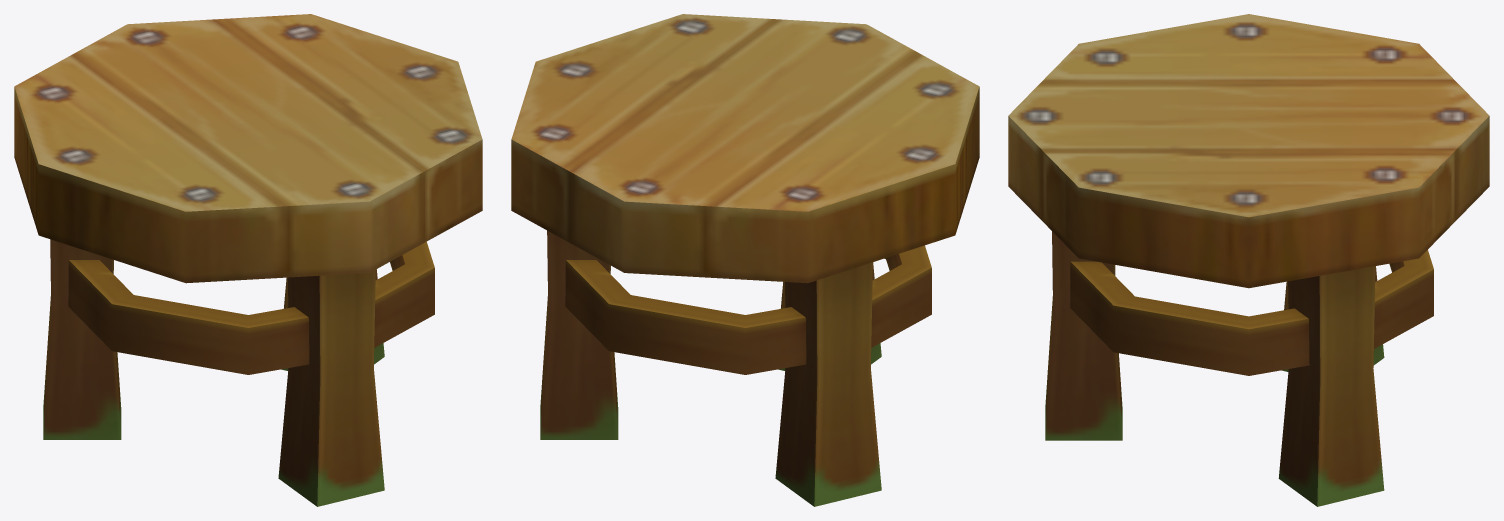
File: map_1001_czzj_21.FBX
3 renders of one model, left to right at view 1: azimuth 30°, elevation 25°; view 2: azimuth 150°, elevation 25°; view 3: azimuth 270°, elevation 25°, orthographic.
Parts seen in each view (by area): view 1: map_1001_czzj_21; view 2: map_1001_czzj_21; view 3: map_1001_czzj_21.
Boxes of the visible parts, x1,y1,x2,y2 form: map_1001_czzj_21: (14, 14, 482, 506); map_1001_czzj_21: (511, 14, 979, 506); map_1001_czzj_21: (1008, 14, 1489, 506).
Bounding box in the file's own units: 0.7982 × 0.5648 × 0.7982.
